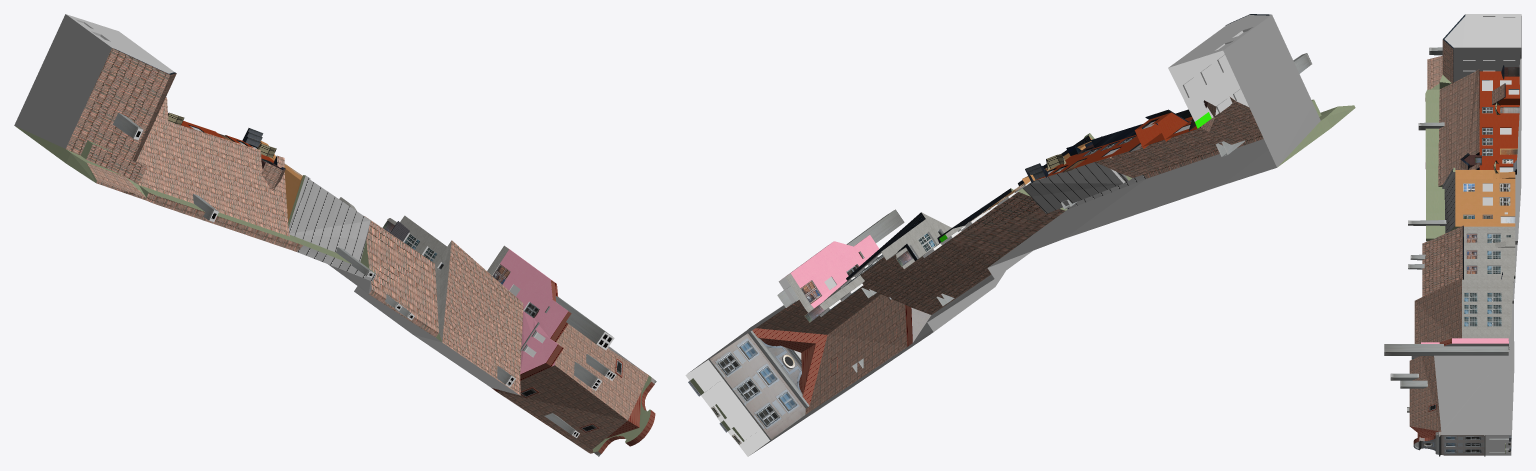
The model's file is Pikk_29a_1.obj.
3 renders of one model, left to right at view 1: azimuth 30°, elevation 25°; view 2: azimuth 150°, elevation 25°; view 3: azimuth 270°, elevation 25°, orthographic. The views are drawn at different scales.
Visible parts, largest first — view 1: Pikk_29a_1; view 2: Pikk_29a_1; view 3: Pikk_29a_1.
Part boxes in pixels (left/top/right/bottom): Pikk_29a_1: left=14, top=14, right=656, bottom=456; Pikk_29a_1: left=685, top=14, right=1355, bottom=456; Pikk_29a_1: left=1384, top=14, right=1521, bottom=456.
Bounding box in the file's own units: 60.76 × 51.3 × 20.87.
